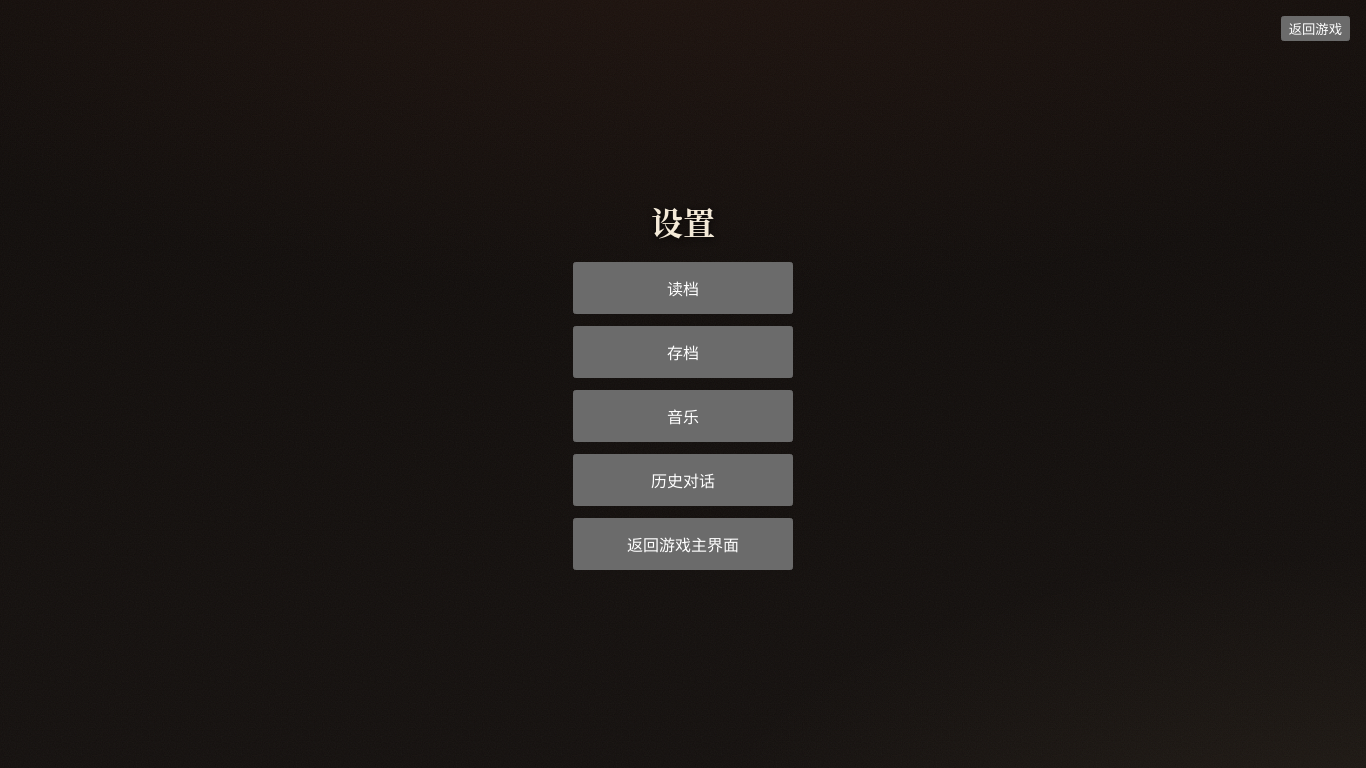
Scenario: SettingsMenu 历史对话 › 空历史显示「暂无对话记录。」
Click the button "历史对话". click: (683, 480)
box: [573,454,793,506]
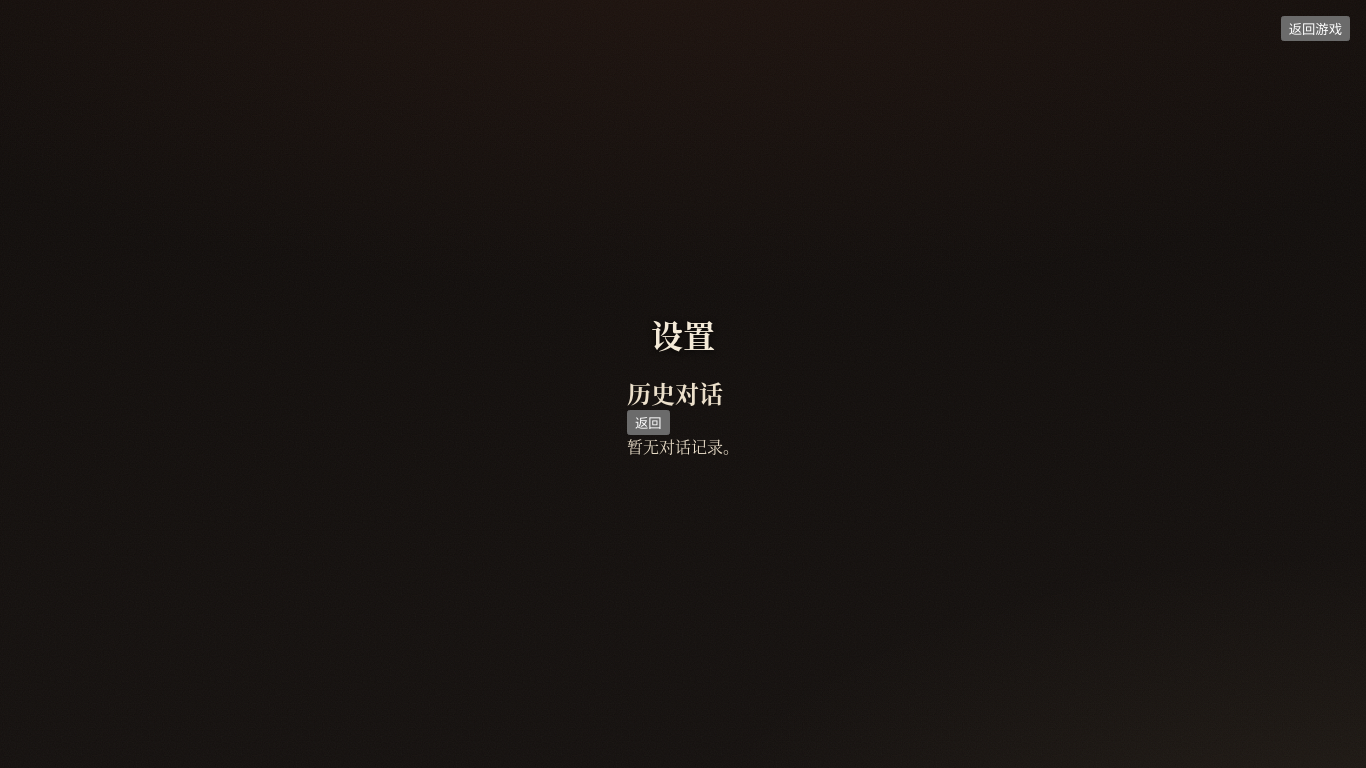
expect the text "暂无对话记录。" is shown: met, box [627,434,739,458]
